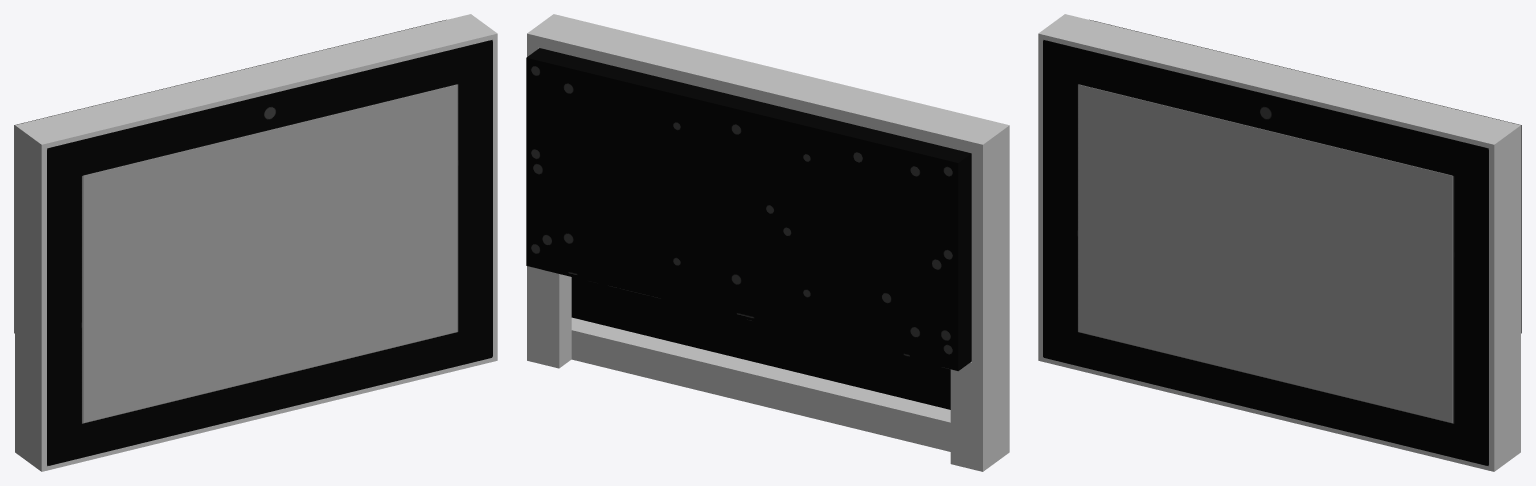
The model's file is UTC-510.fbx.
3 views of the same model, side by side, from view 1: azimuth 30°, elevation 25°; view 2: azimuth 150°, elevation 25°; view 3: azimuth 330°, elevation 25° (orthographic).
Visible parts, largest first — view 1: A, B, C, D; view 2: D, C, B; view 3: A, B, C, D.
Part boxes in pixels (x1,y1,x2,y2): A: [83, 84, 457, 423]; B: [47, 40, 492, 466]; C: [15, 14, 497, 471]; D: [14, 19, 446, 333]; D: [526, 48, 971, 371]; C: [527, 14, 1009, 471]; B: [571, 277, 950, 409]; A: [1078, 84, 1452, 423]; B: [1043, 40, 1488, 466]; C: [1038, 14, 1520, 471]; D: [1089, 19, 1521, 333].
Size of the model in its own units: 26.59 by 18.23 by 4.04.
